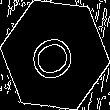O_NE: (25, 25, 85, 85)
